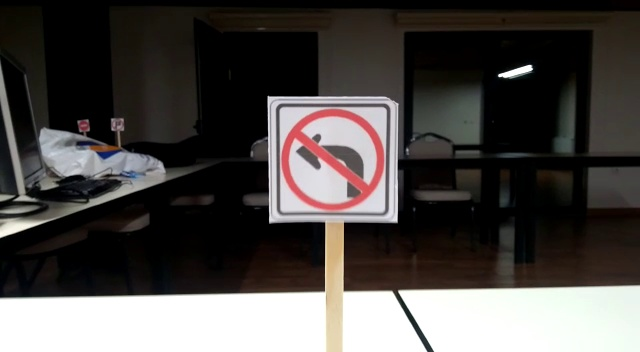sola_donulmez: (270, 101, 391, 217)
